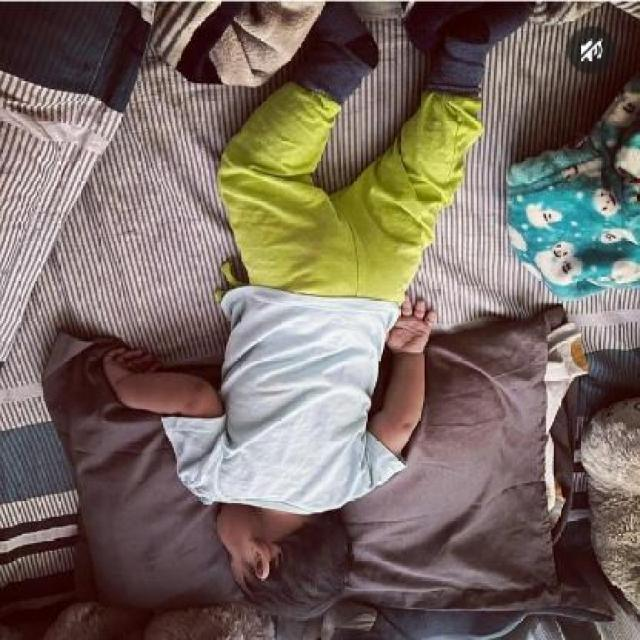baby: (101, 9, 532, 625)
